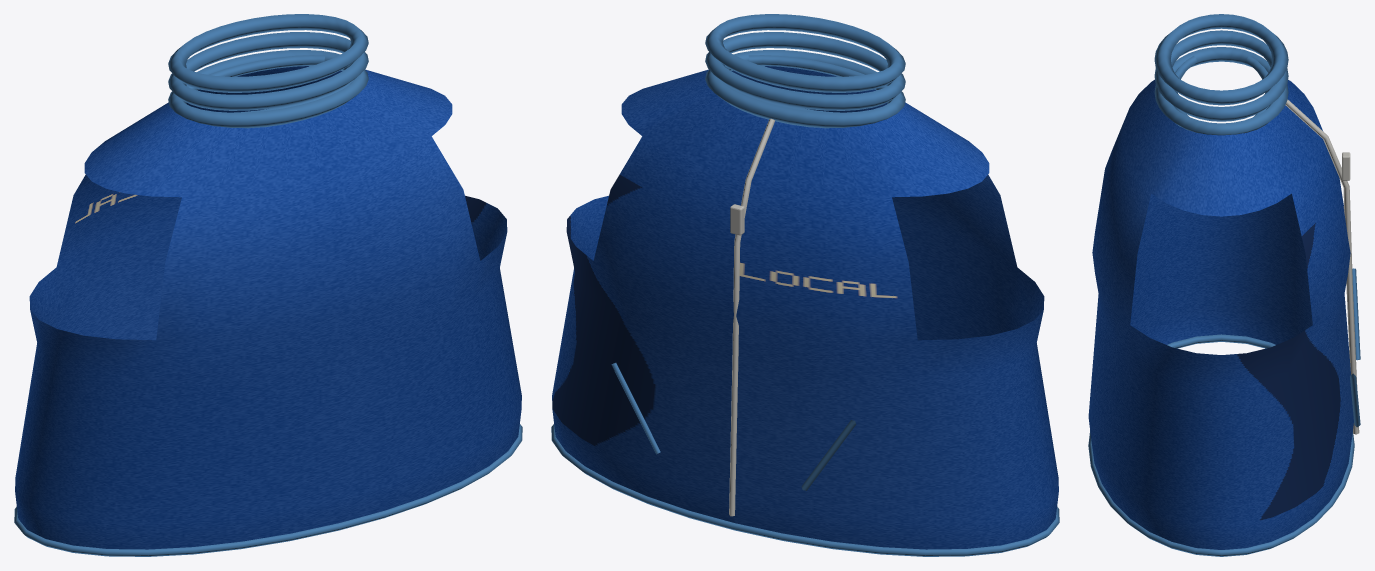
File: CG_TOP_03.fbx
3 views of the same model, side by side, from view 1: azimuth 30°, elevation 25°; view 2: azimuth 150°, elevation 25°; view 3: azimuth 270°, elevation 25° (orthographic). The views are drawn at different scales.
Visible parts, largest first — view 1: Camiseta_com_caimento.008, BlenderTopo_Gola_alta.002, BlenderTopo_Gola_alta.001, BlenderTopo_Gola_alta, BlenderTopo_Barra.007, BlenderTopo_Gola.007; view 2: Camiseta_com_caimento.008, BlenderTopo_Gola_alta.002, BlenderTopo_Gola_alta.001, BlenderTopo_Gola_alta, BlenderTopo_Barra.007, BlenderTopo_Ziper.001, BlenderTopo_Gola.007, BlenderTopo_Bolso_fleece; view 3: Camiseta_com_caimento.008, BlenderTopo_Gola_alta.002, BlenderTopo_Gola_alta.001, BlenderTopo_Barra.007, BlenderTopo_Gola_alta, BlenderTopo_Ziper.001, BlenderTopo_Gola.007, BlenderTopo_Bolso_fleece, BlenderTopo_Bolso_fleece.001.
Boxes of the visible parts, left/top/right/bottom form: Camiseta_com_caimento.008: left=15, top=66, right=521, bottom=549; BlenderTopo_Gola_alta.002: left=168, top=14, right=368, bottom=92; BlenderTopo_Gola_alta.001: left=168, top=32, right=368, bottom=110; BlenderTopo_Gola_alta: left=168, top=50, right=368, bottom=128; BlenderTopo_Barra.007: left=14, top=424, right=522, bottom=556; BlenderTopo_Gola.007: left=187, top=55, right=353, bottom=112; Camiseta_com_caimento.008: left=552, top=66, right=1058, bottom=549; BlenderTopo_Gola_alta.002: left=705, top=14, right=905, bottom=92; BlenderTopo_Gola_alta.001: left=705, top=32, right=905, bottom=110; BlenderTopo_Gola_alta: left=705, top=50, right=905, bottom=128; BlenderTopo_Barra.007: left=551, top=424, right=1059, bottom=556; BlenderTopo_Ziper.001: left=729, top=118, right=775, bottom=516; BlenderTopo_Gola.007: left=720, top=55, right=886, bottom=112; BlenderTopo_Bolso_fleece: left=801, top=420, right=856, bottom=490; Camiseta_com_caimento.008: left=1088, top=79, right=1353, bottom=549; BlenderTopo_Gola_alta.002: left=1154, top=14, right=1288, bottom=105; BlenderTopo_Gola_alta.001: left=1154, top=30, right=1288, bottom=121; BlenderTopo_Barra.007: left=1088, top=334, right=1354, bottom=556; BlenderTopo_Gola_alta: left=1154, top=47, right=1288, bottom=135; BlenderTopo_Ziper.001: left=1285, top=99, right=1359, bottom=434; BlenderTopo_Gola.007: left=1174, top=55, right=1268, bottom=117; BlenderTopo_Bolso_fleece: left=1352, top=268, right=1360, bottom=360; BlenderTopo_Bolso_fleece.001: left=1350, top=373, right=1360, bottom=427.
Bounding box in the file's own units: 114 × 96.7 × 60.1.
Materials: 3 (1 with a texture image).
